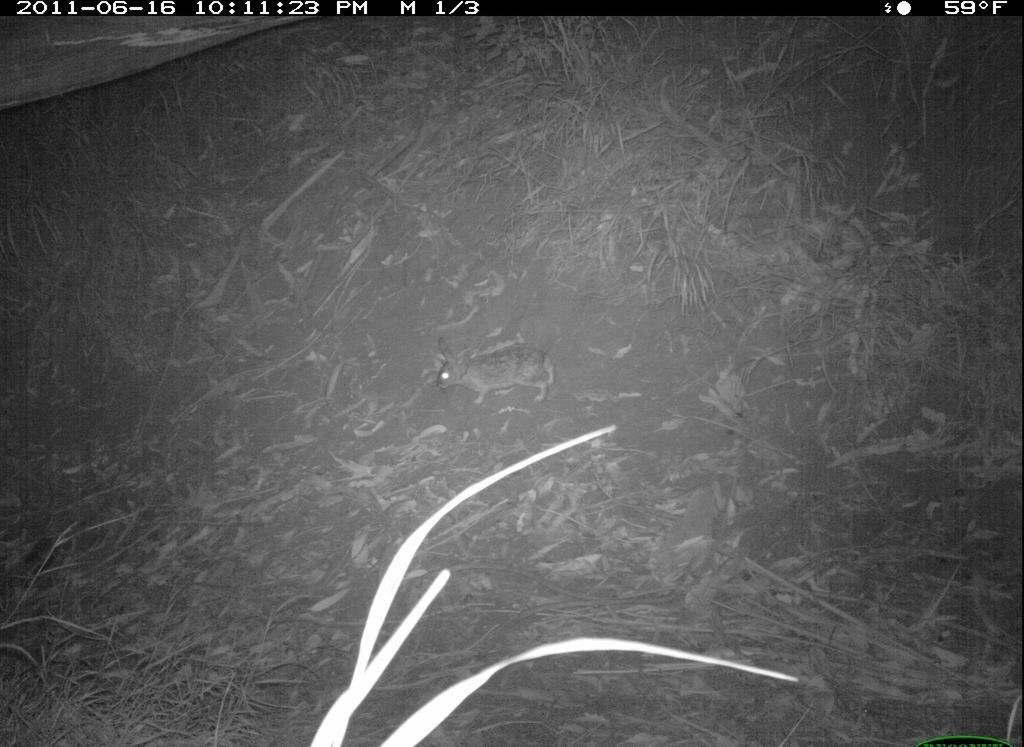rabbit: (427, 324, 562, 417)
